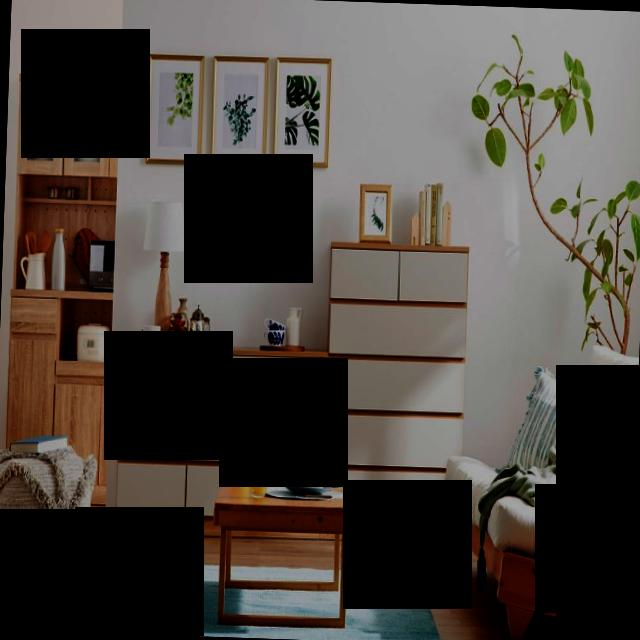natural desk: (208, 470, 362, 634)
natural shelf: (108, 225, 472, 490), (7, 64, 122, 450)
natural sofa: (440, 331, 639, 640)
